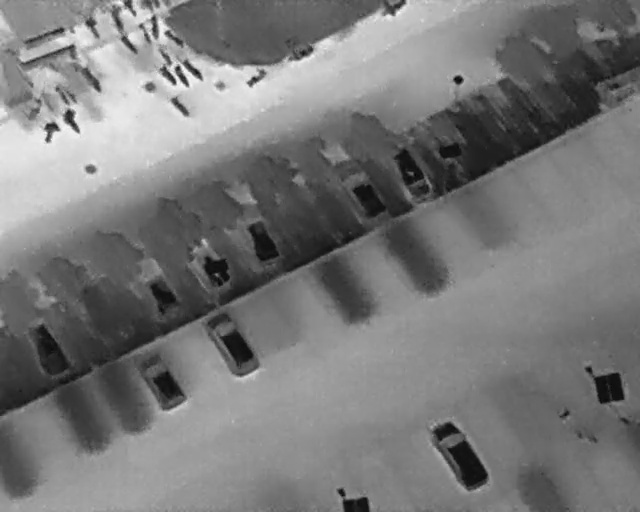Bicycle: (76, 62, 107, 95), (282, 39, 318, 66), (178, 54, 208, 84), (166, 92, 194, 122), (59, 105, 85, 137), (105, 1, 129, 34), (80, 14, 106, 43), (243, 65, 270, 91), (156, 62, 181, 89), (117, 30, 142, 57), (171, 61, 193, 91), (134, 18, 156, 48), (162, 25, 188, 50), (50, 83, 74, 110), (24, 94, 45, 123), (40, 120, 62, 146), (377, 0, 408, 17), (147, 12, 162, 42), (61, 85, 81, 107), (156, 45, 175, 68), (123, 0, 138, 18), (144, 0, 155, 12)
Car: (420, 411, 497, 500), (197, 303, 266, 384), (128, 341, 192, 417), (176, 226, 238, 296), (130, 250, 184, 320), (20, 313, 75, 380), (385, 142, 437, 206), (340, 166, 394, 227), (238, 207, 287, 269)
